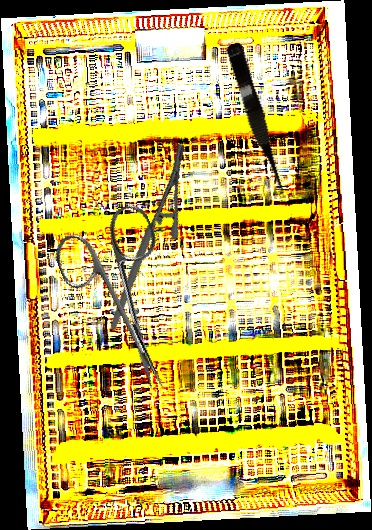Iris Scissors: (47, 200, 207, 407)
Micro Scissor: (222, 41, 291, 201)
Needle Holder: (59, 140, 235, 331)
